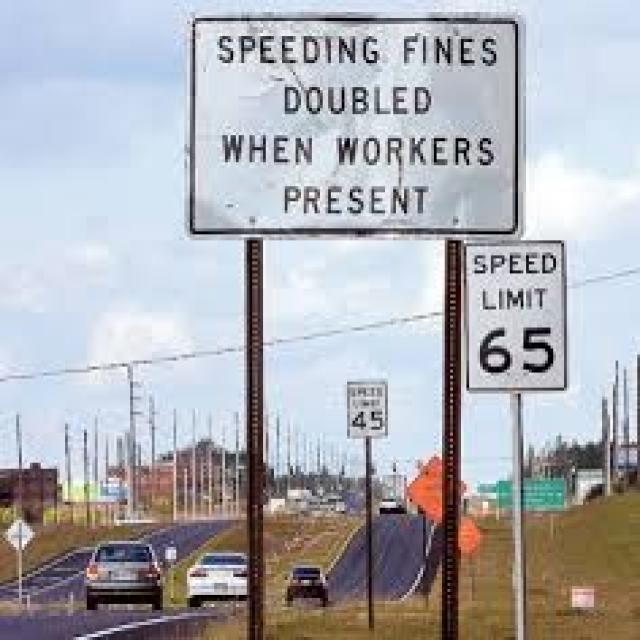speedLimit45: (346, 382, 389, 442)
